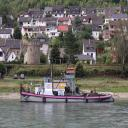tugboat: (21, 76, 116, 105)
